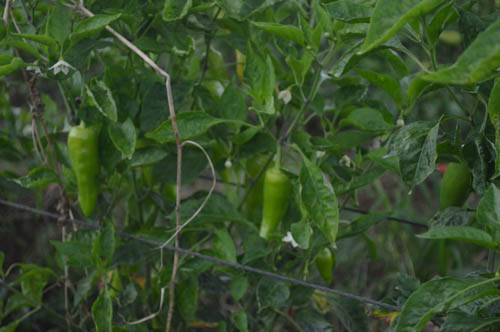ChiliPepper: (68, 127, 103, 217), (257, 173, 288, 243), (433, 163, 470, 217), (313, 250, 336, 278)
